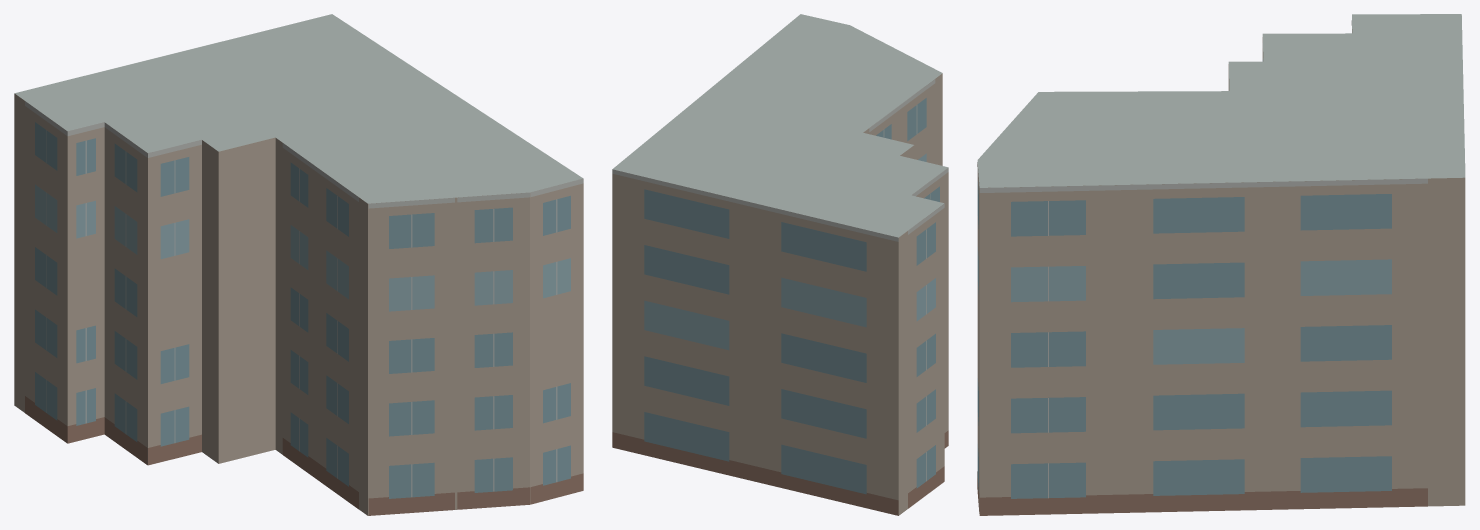
The model's file is survey-upis-32755475.glb.
3 views of the same model, side by side, from view 1: azimuth 30°, elevation 25°; view 2: azimuth 150°, elevation 25°; view 3: azimuth 270°, elevation 25° (orthographic). The views are drawn at different scales.
Parts seen in each view (by area): view 1: survey-upis-32755475.tmp; view 2: survey-upis-32755475.tmp; view 3: survey-upis-32755475.tmp.
Part boxes in pixels (x1,y1,x2,y2): survey-upis-32755475.tmp: (14, 14, 583, 515); survey-upis-32755475.tmp: (612, 14, 948, 515); survey-upis-32755475.tmp: (977, 14, 1465, 515).
Bounding box in the file's own units: 17.64 × 15.5 × 20.92.
